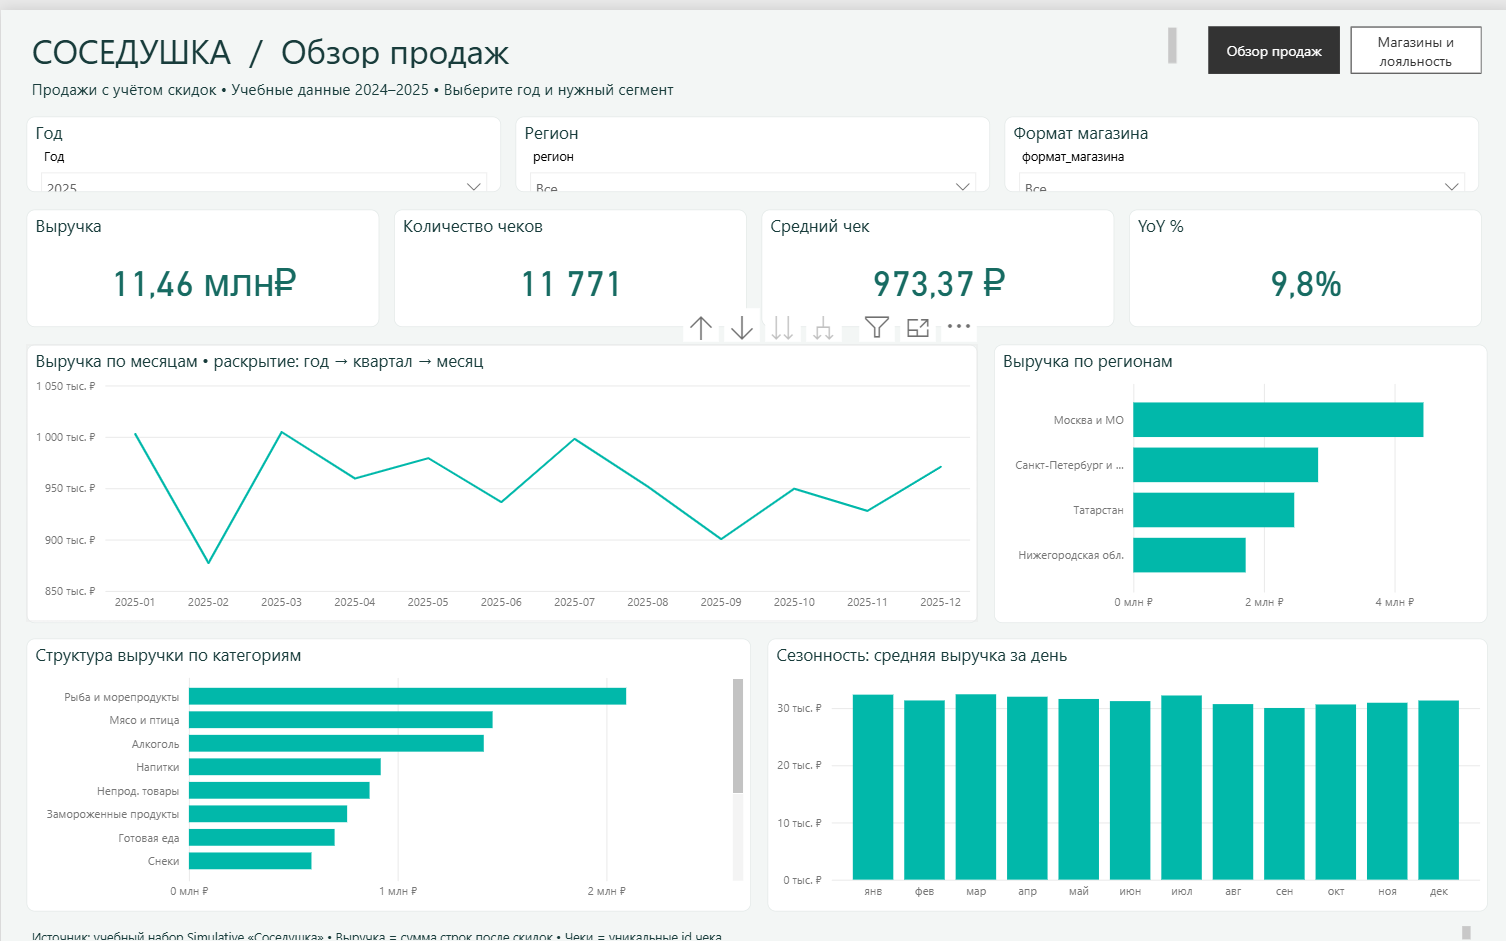

The page's visual inventory and layout, read from the dashboard file:
{"tool":"powerbi","page":{"name":"Обзор продаж","canvas":[1440,900],"ordinal":0},"visuals":[{"type":"textbox","box":[24,12,1100,48],"z":0},{"type":"pageNavigator","box":[1150,16,260,45],"z":0},{"type":"textbox","box":[24,60,1380,30],"z":0},{"type":"slicer","title":"Год","fields":{"Values":["dim_calendar.Год"]},"box":[24,102,452,72],"z":0},{"type":"slicer","title":"Регион","fields":{"Values":["dim_stores.регион"]},"box":[490,102,452,72],"z":0},{"type":"slicer","title":"Формат магазина","fields":{"Values":["dim_stores.формат_магазина"]},"box":[956,102,452,72],"z":0},{"type":"card","title":"Выручка","fields":{"Values":["fact_sales.Выручка"]},"box":[24,190,336,112],"z":0},{"type":"card","title":"Количество чеков","fields":{"Values":["fact_sales.Количество чеков"]},"box":[374,190,336,112],"z":0},{"type":"card","title":"Средний чек","fields":{"Values":["fact_sales.Средний чек"]},"box":[724,190,336,112],"z":0},{"type":"card","title":"YoY %","fields":{"Values":["fact_sales.YoY %"]},"box":[1074,190,336,112],"z":0},{"type":"lineChart","title":"Выручка по месяцам • раскрытие: год → квартал → месяц","fields":{"Category":["dim_calendar.Год","dim_calendar.Квартал","dim_calendar.Год-месяц"],"Y":["fact_sales.Выручка"]},"box":[24,318,906,265],"z":0},{"type":"clusteredBarChart","title":"Выручка по регионам","fields":{"Category":["dim_stores.регион"],"Y":["fact_sales.Выручка"]},"box":[946,318,470,265],"z":0},{"type":"clusteredBarChart","title":"Структура выручки по категориям","fields":{"Category":["dim_products.категория"],"Y":["fact_sales.Выручка"]},"box":[24,599,690,260],"z":0},{"type":"clusteredColumnChart","title":"Сезонность: средняя выручка за день","fields":{"Category":["dim_calendar.Месяц"],"Y":["fact_sales.Выручка в день"]},"box":[730,599,686,260],"z":0},{"type":"textbox","box":[24,867,1380,23],"z":0}]}

Visuals, with their boxes in screenshot pixels (x1, y1, x2, y2), scaled from the page's 1440x900 canvas onto the 1506x941 screenshot:
textbox: bbox=(25, 13, 1176, 63)
pageNavigator: bbox=(1203, 17, 1475, 64)
textbox: bbox=(25, 63, 1468, 94)
"Год" slicer: bbox=(25, 107, 498, 182)
"Регион" slicer: bbox=(512, 107, 985, 182)
"Формат магазина" slicer: bbox=(1000, 107, 1473, 182)
"Выручка" card: bbox=(25, 199, 376, 316)
"Количество чеков" card: bbox=(391, 199, 743, 316)
"Средний чек" card: bbox=(757, 199, 1109, 316)
"YoY %" card: bbox=(1123, 199, 1475, 316)
"Выручка по месяцам • раскрытие: год → квартал → месяц" lineChart: bbox=(25, 332, 973, 610)
"Выручка по регионам" clusteredBarChart: bbox=(989, 332, 1481, 610)
"Структура выручки по категориям" clusteredBarChart: bbox=(25, 626, 747, 898)
"Сезонность: средняя выручка за день" clusteredColumnChart: bbox=(763, 626, 1481, 898)
textbox: bbox=(25, 906, 1468, 931)
